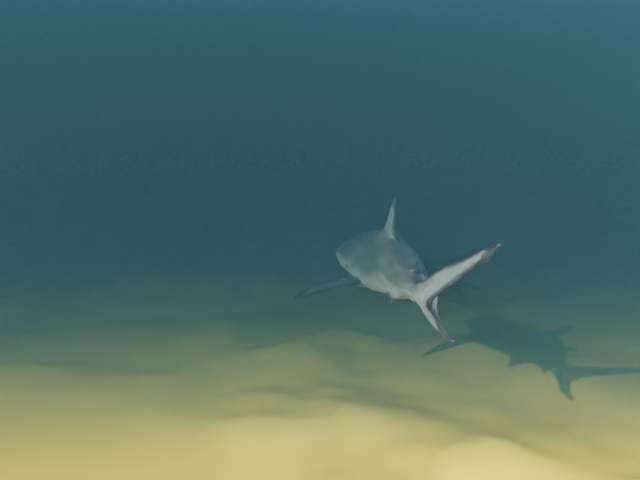Carribean Shark.001: (291, 197, 501, 342)
